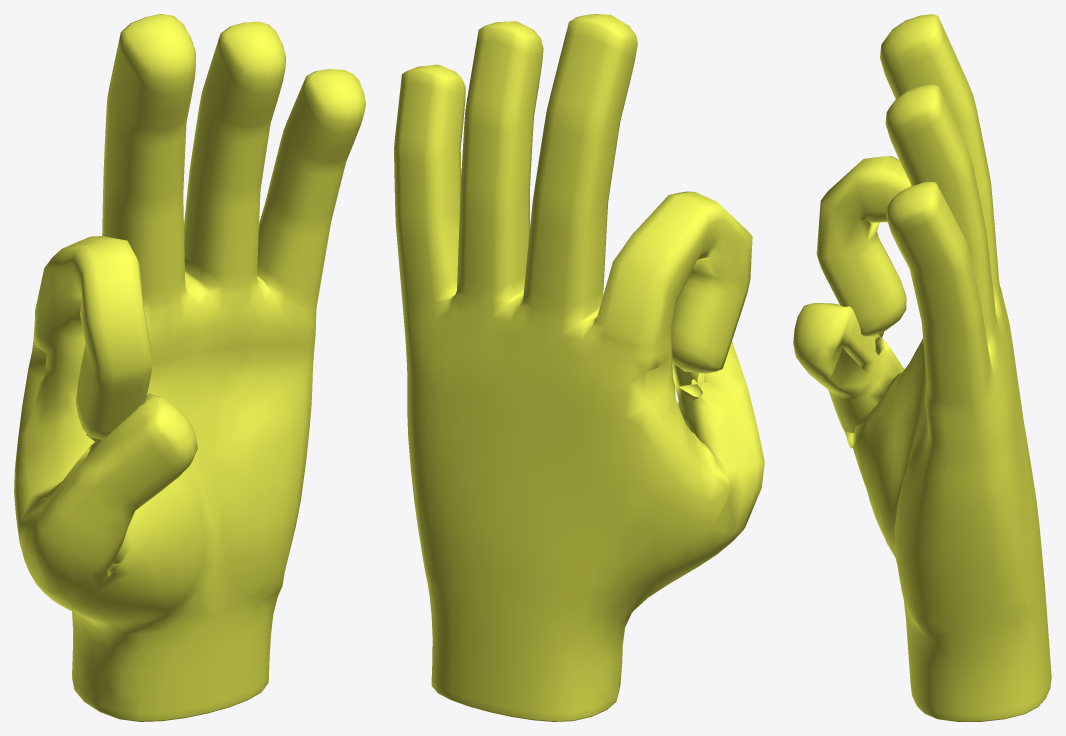
3 renders of one model, left to right at view 1: azimuth 30°, elevation 25°; view 2: azimuth 150°, elevation 25°; view 3: azimuth 270°, elevation 25°, orthographic. The views are drawn at different scales.
Parts seen in each view (by area): view 1: uploads_files_810024_Hand; view 2: uploads_files_810024_Hand; view 3: uploads_files_810024_Hand.
Part boxes in pixels (x1,y1,x2,y2): uploads_files_810024_Hand: (14,14,365,721); uploads_files_810024_Hand: (394,14,764,721); uploads_files_810024_Hand: (793,14,1051,721).
Bounding box in the file's own units: 1.48 × 2.84 × 1.03.
